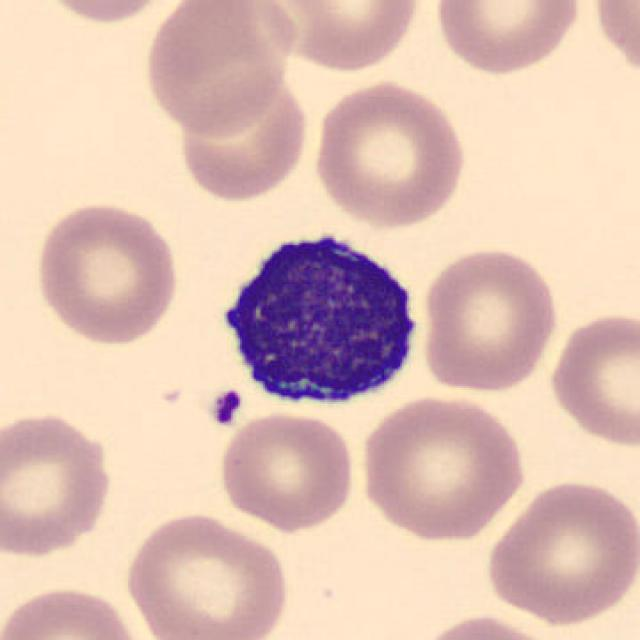Lymphocyte: (208, 219, 428, 414)
Platelets: (206, 386, 244, 430)
RBC: (354, 391, 530, 545), (310, 76, 470, 229), (482, 474, 638, 626), (30, 198, 183, 348), (121, 508, 293, 640), (418, 243, 562, 395), (138, 2, 292, 139), (171, 70, 313, 206), (0, 407, 117, 558), (217, 409, 357, 532), (544, 307, 638, 451), (428, 0, 586, 78), (261, 0, 427, 74), (0, 582, 148, 640), (409, 610, 567, 640), (587, 0, 638, 88), (30, 0, 179, 26)
